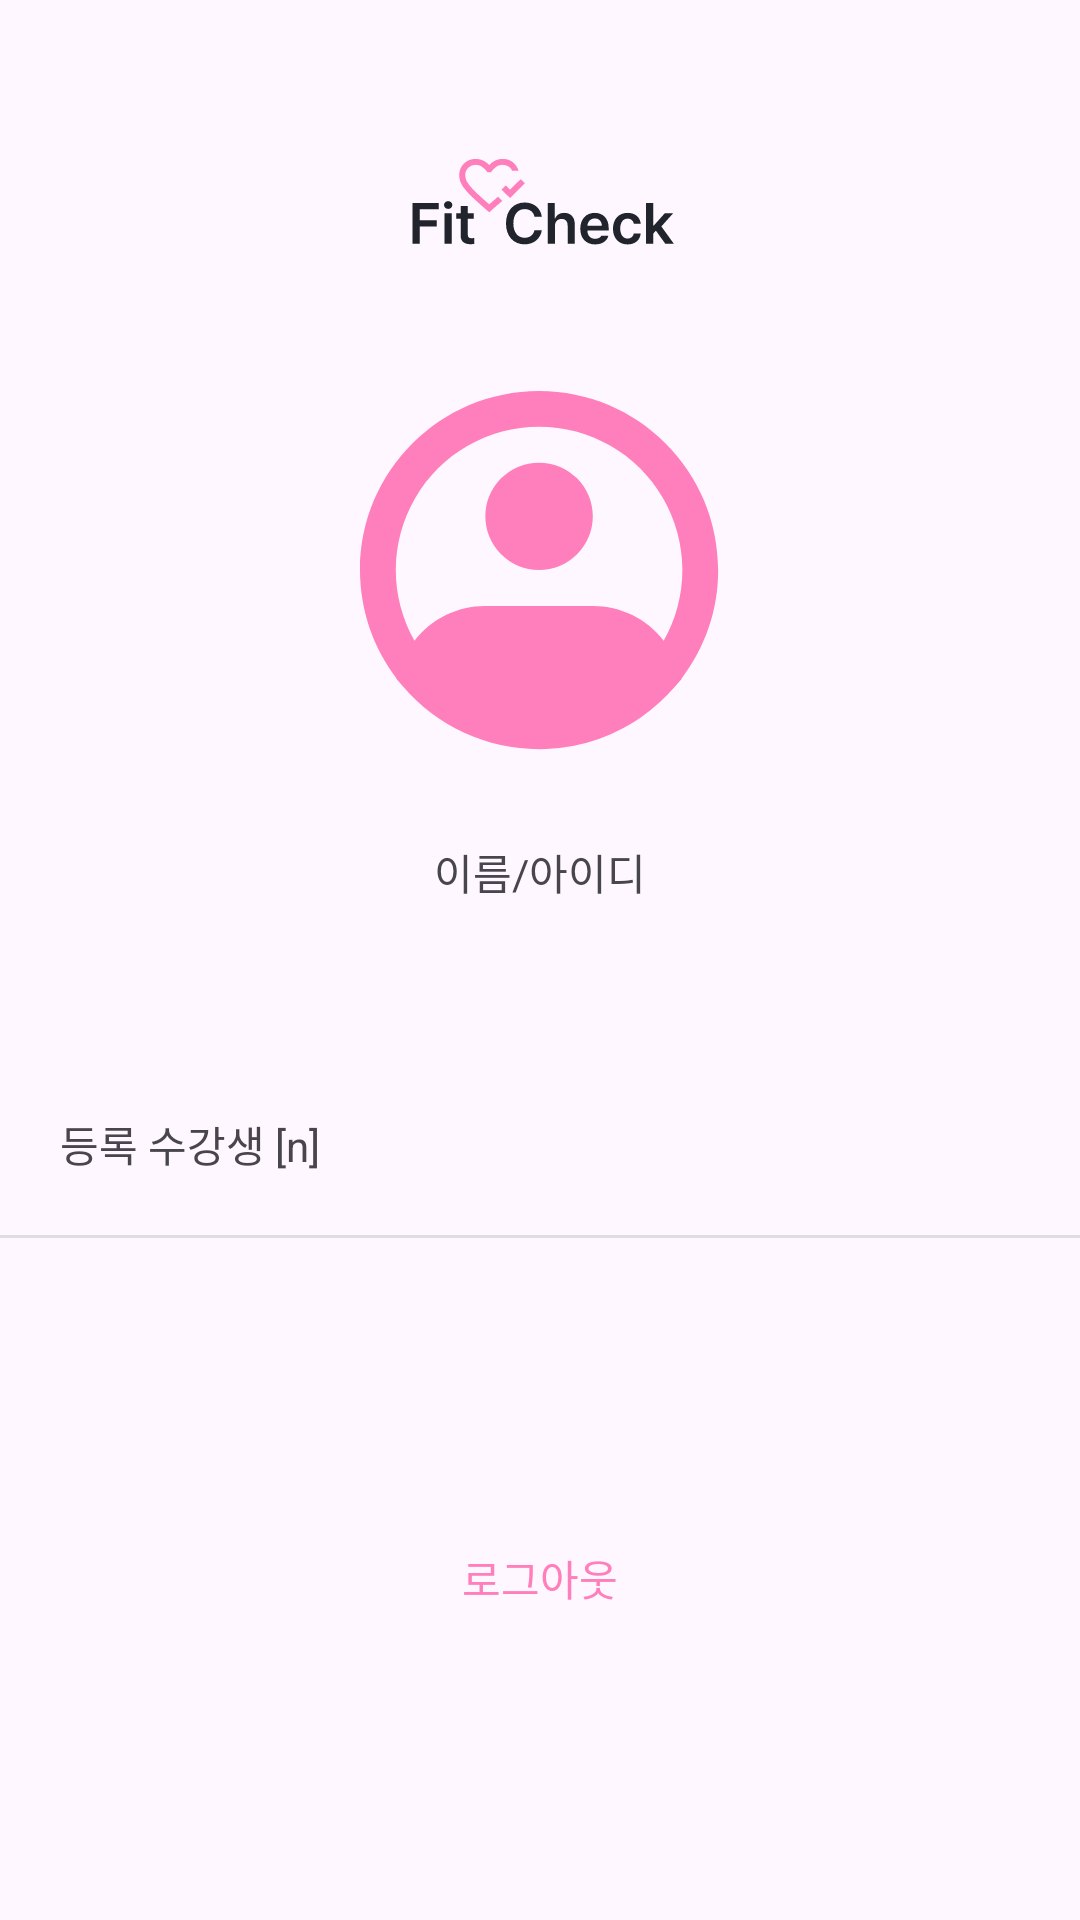

Screen size 1080px x 1920px. Icon name, then its center in pixels as [x,y]:
mypage profile: [539,570]
